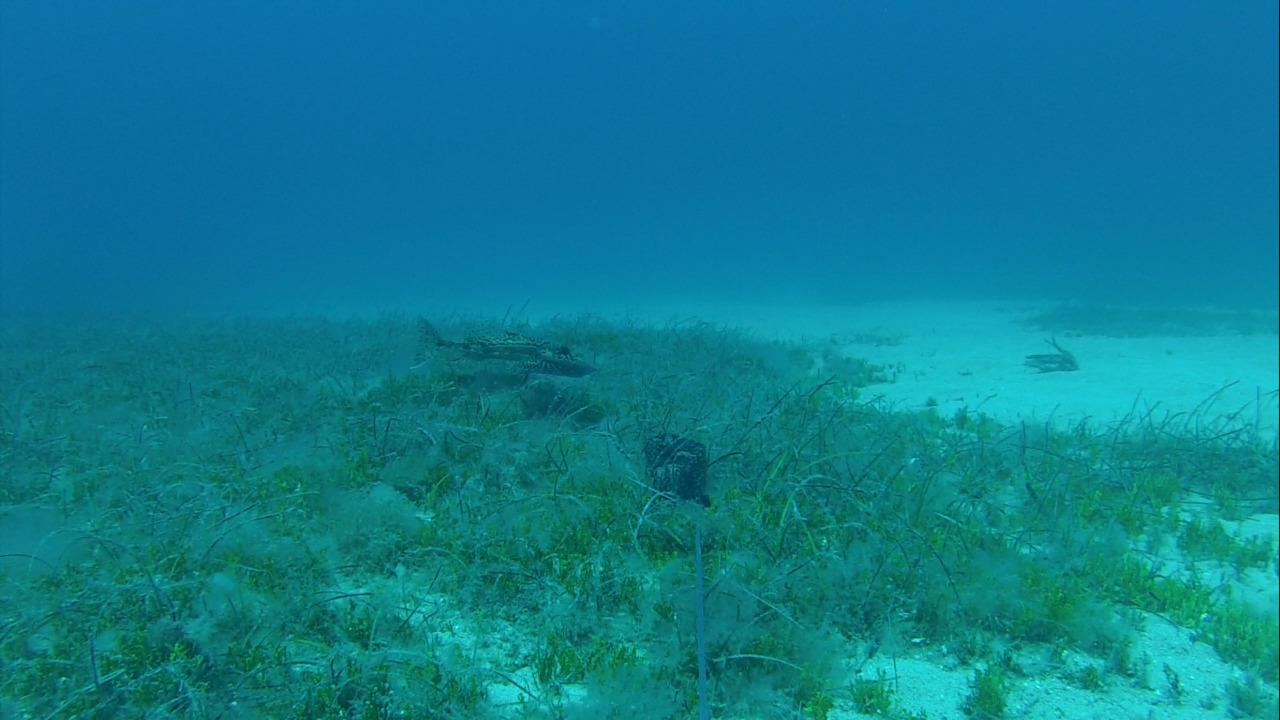dactylopterus: (403, 312, 591, 384)
